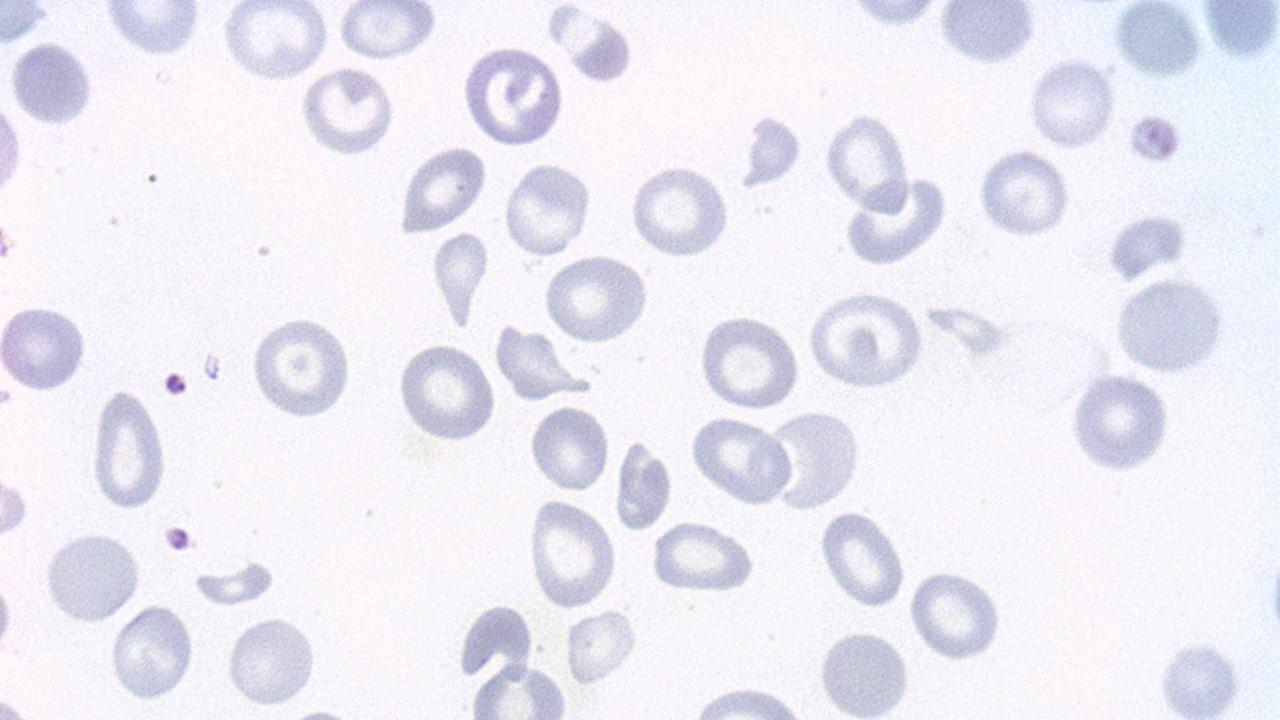Platelets: (162, 522, 195, 554), (161, 368, 191, 398)
RBC: (804, 288, 927, 392), (1109, 274, 1231, 378), (1066, 370, 1178, 478), (247, 311, 354, 421), (461, 41, 568, 149), (394, 337, 500, 443), (760, 407, 866, 512), (839, 176, 955, 271), (696, 310, 804, 411), (524, 496, 618, 608), (540, 254, 652, 347), (628, 160, 732, 260), (90, 385, 170, 512), (41, 527, 143, 626), (823, 108, 916, 216), (908, 565, 1009, 663), (974, 146, 1078, 240), (686, 414, 792, 506), (296, 65, 400, 158), (106, 600, 198, 704), (815, 624, 915, 719), (816, 508, 908, 610), (1024, 55, 1120, 152), (224, 611, 318, 710), (217, 2, 330, 83), (395, 141, 490, 235), (503, 159, 593, 256), (646, 520, 758, 596), (5, 37, 97, 128), (0, 300, 89, 394), (1153, 632, 1247, 718), (528, 400, 610, 493), (932, 1, 1043, 69), (1110, 1, 1204, 80), (460, 658, 574, 716), (98, 1, 207, 60), (1102, 208, 1190, 280), (336, 1, 439, 61), (563, 606, 640, 686), (614, 436, 676, 534), (430, 231, 492, 329), (740, 110, 806, 191), (1198, 3, 1276, 66), (566, 19, 636, 86), (686, 681, 810, 718), (190, 558, 278, 608), (826, 0, 956, 32), (1124, 109, 1186, 169), (1, 89, 26, 209), (0, 469, 29, 543), (0, 564, 18, 660)
